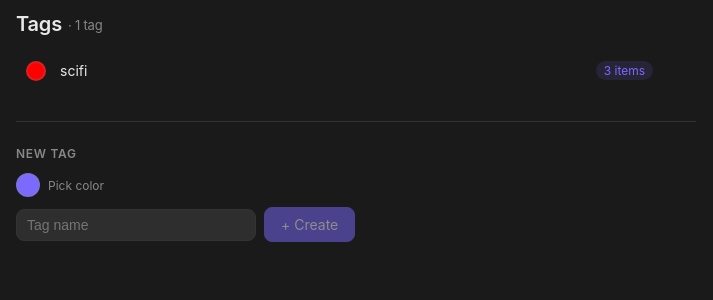
Test: TagsView › creates a tag through the form
The image size is (713, 300).
Expected: the button "scifi" is shown, [56,60,586,81]
Type "fantasy" into the field with placeholder "Tag name" at (136, 224), box [16,208,256,240]
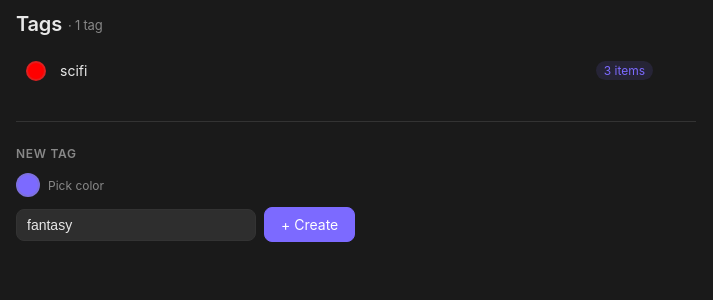
Click the button "+ Create" at (310, 224), box [264,207,355,242]
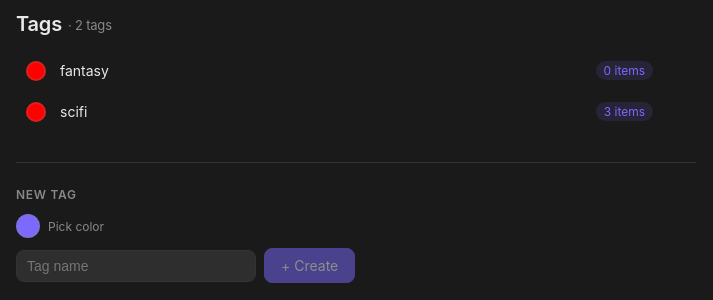
Now the button "fantasy" is shown, box [56,60,586,81]
